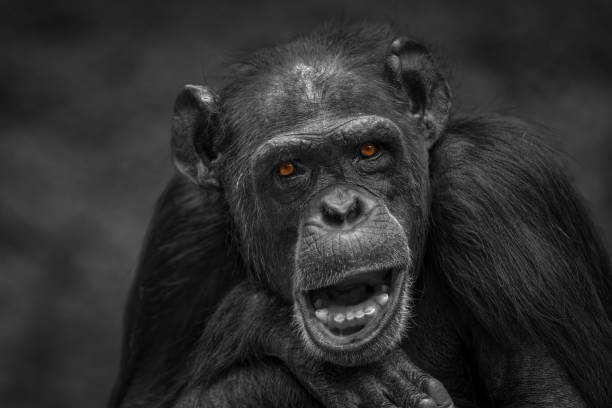chimpanzee: (155, 13, 487, 388)
